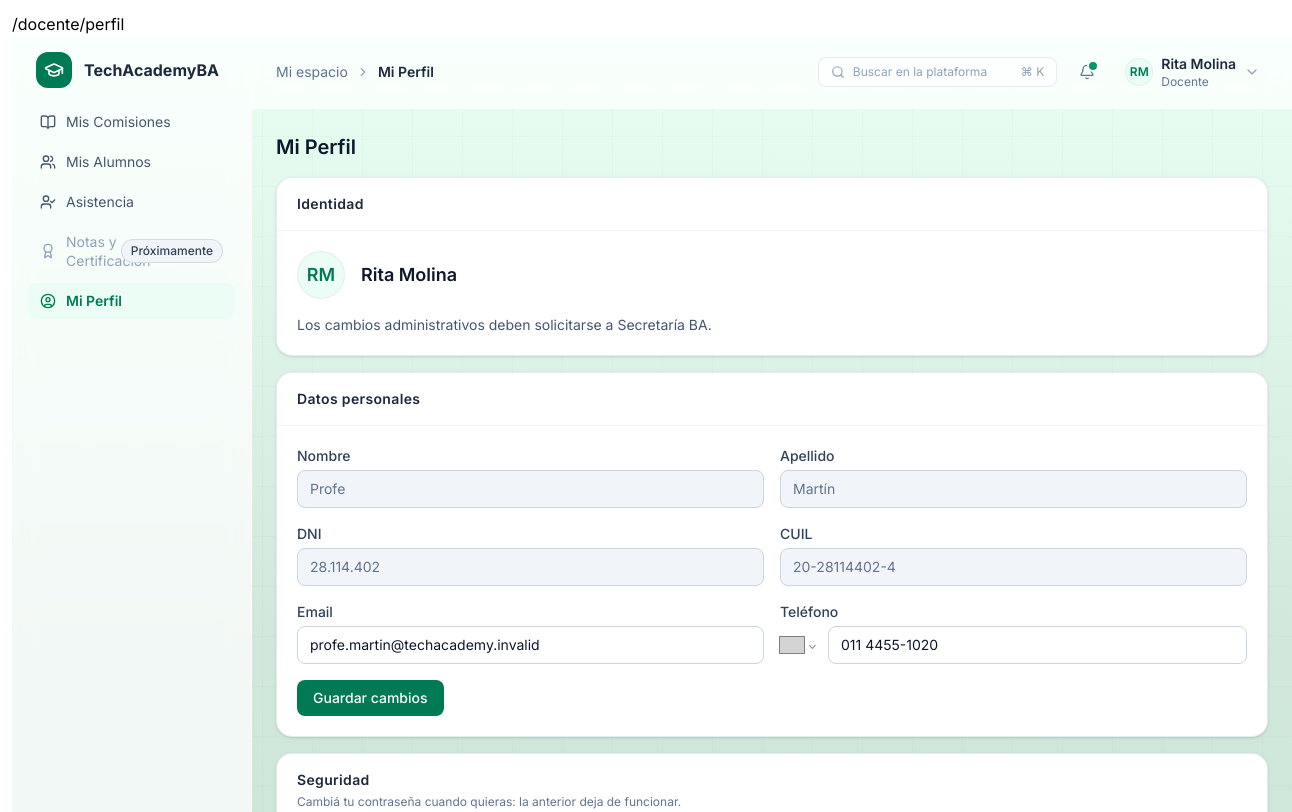
Scenario: datos personales › marca el email con forma inválida y no borra lo escrito
The image size is (1292, 812).
Expected: the heading "Mi Perfil" is shown, [276,135,356,159]
Replace the text in the field labelled "Email" with "sin-arroba". click: (530, 645)
box: [297,626,764,664]
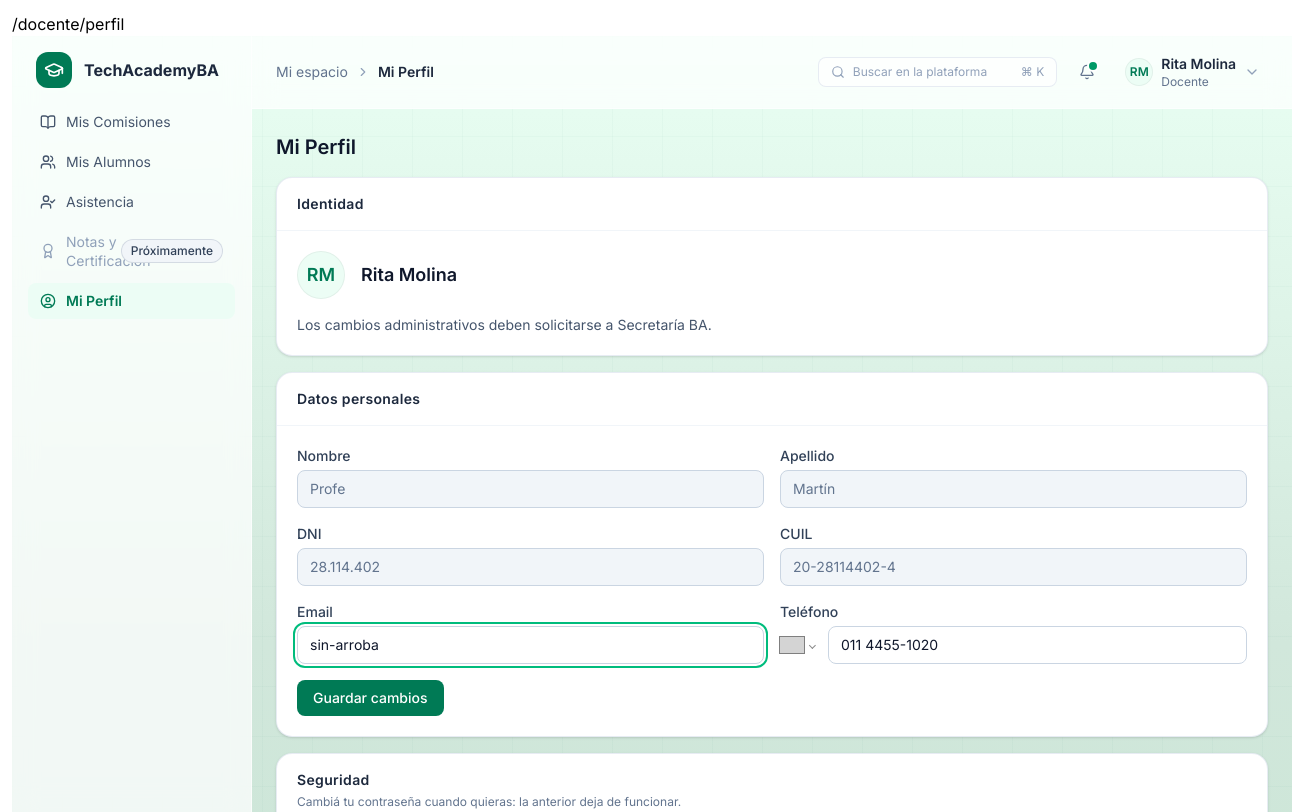
Click the button "Guardar cambios". click: click(370, 698)
box: [297,680,444,716]
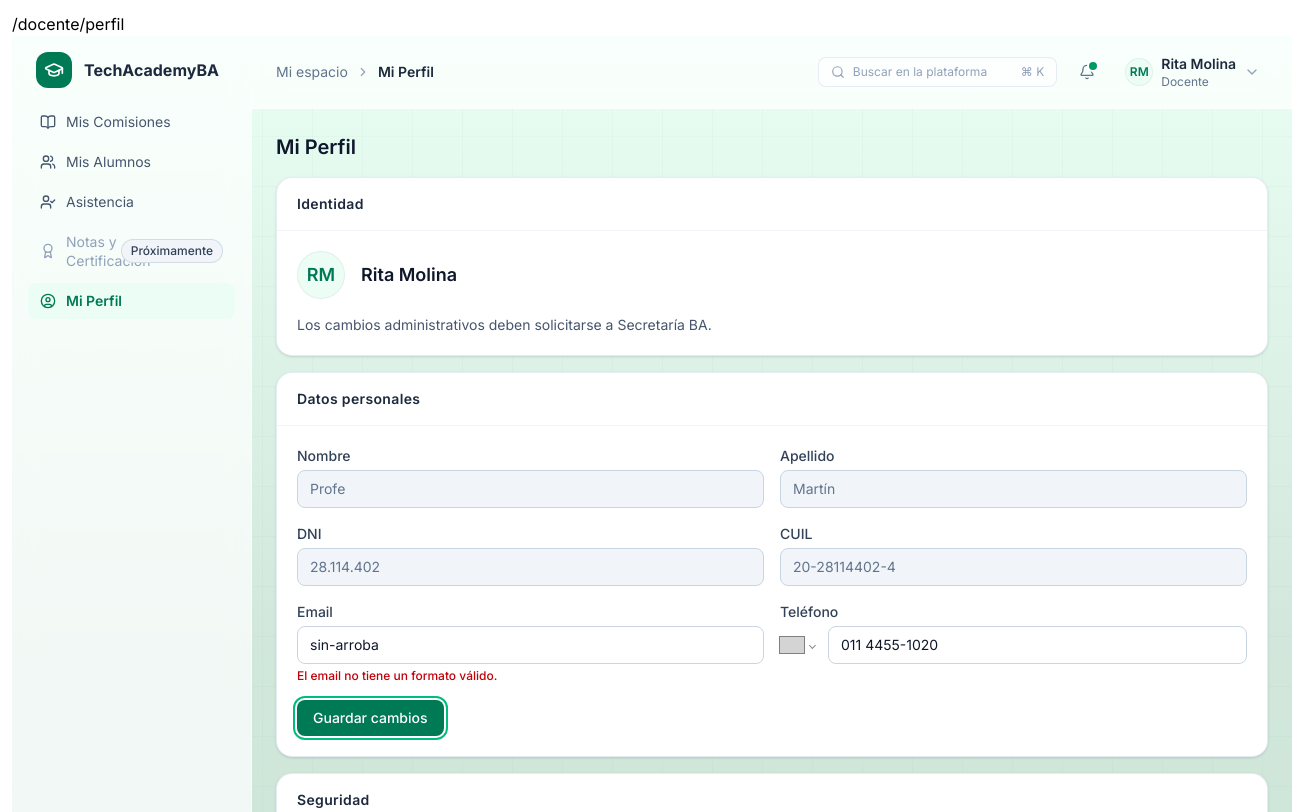
Now the message reads "El email no tiene un formato válido.", box [297,668,497,683]
